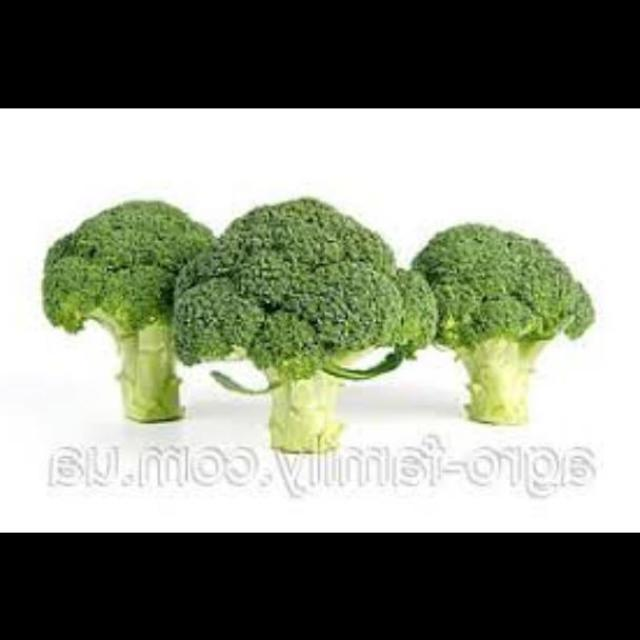Broccoli: (185, 170, 412, 486), (409, 181, 596, 421), (24, 202, 214, 432)
